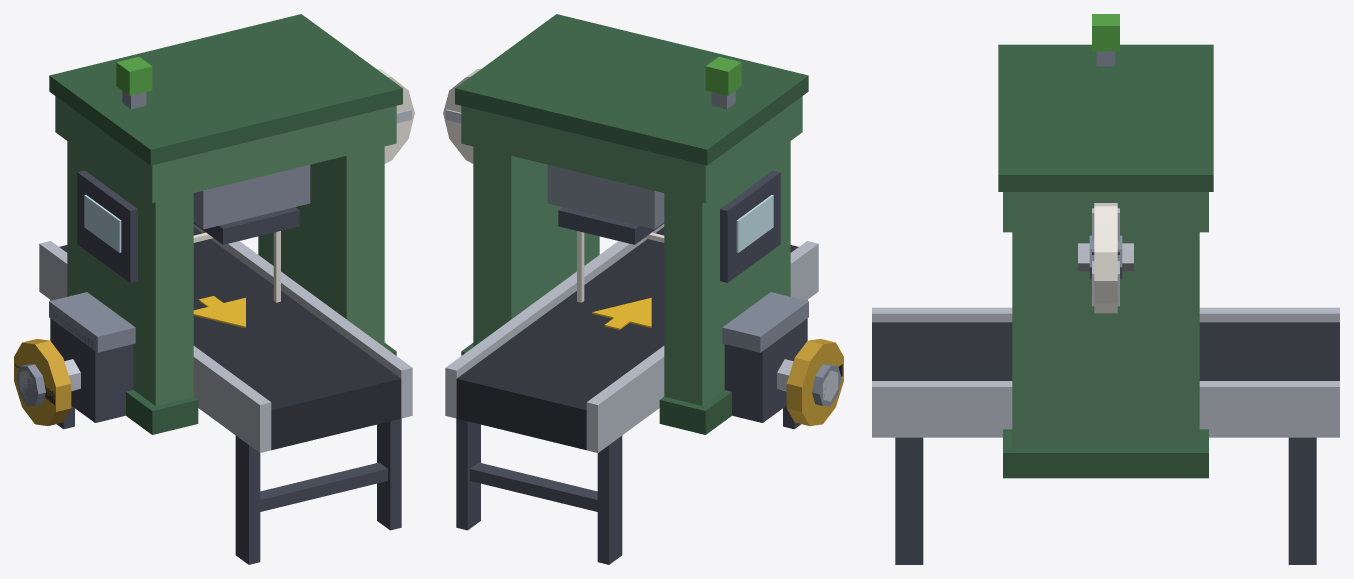
File: strapper-left.glb
3 renders of one model, left to right at view 1: azimuth 30°, elevation 25°; view 2: azimuth 150°, elevation 25°; view 3: azimuth 270°, elevation 25°, orthographic. The views are drawn at different scales.
Parts seen in each view (by area): view 1: strapper-left, slide-up, spin-x, spin-y; view 2: strapper-left, slide-up, spin-x, spin-y; view 3: strapper-left, spin-y.
Part boxes in pixels (bbox=[...]): strapper-left: bbox=[19, 14, 412, 564]; slide-up: bbox=[193, 165, 310, 244]; spin-x: bbox=[14, 339, 71, 425]; spin-y: bbox=[377, 69, 414, 163]; strapper-left: bbox=[445, 14, 838, 564]; slide-up: bbox=[547, 165, 664, 244]; spin-x: bbox=[786, 339, 843, 425]; spin-y: bbox=[443, 69, 480, 163]; strapper-left: bbox=[872, 14, 1339, 564]; spin-y: bbox=[1089, 203, 1122, 313].
Bounding box in the file's own units: 1 × 1.08 × 1.
Materials: 4 (4 with a texture image).
